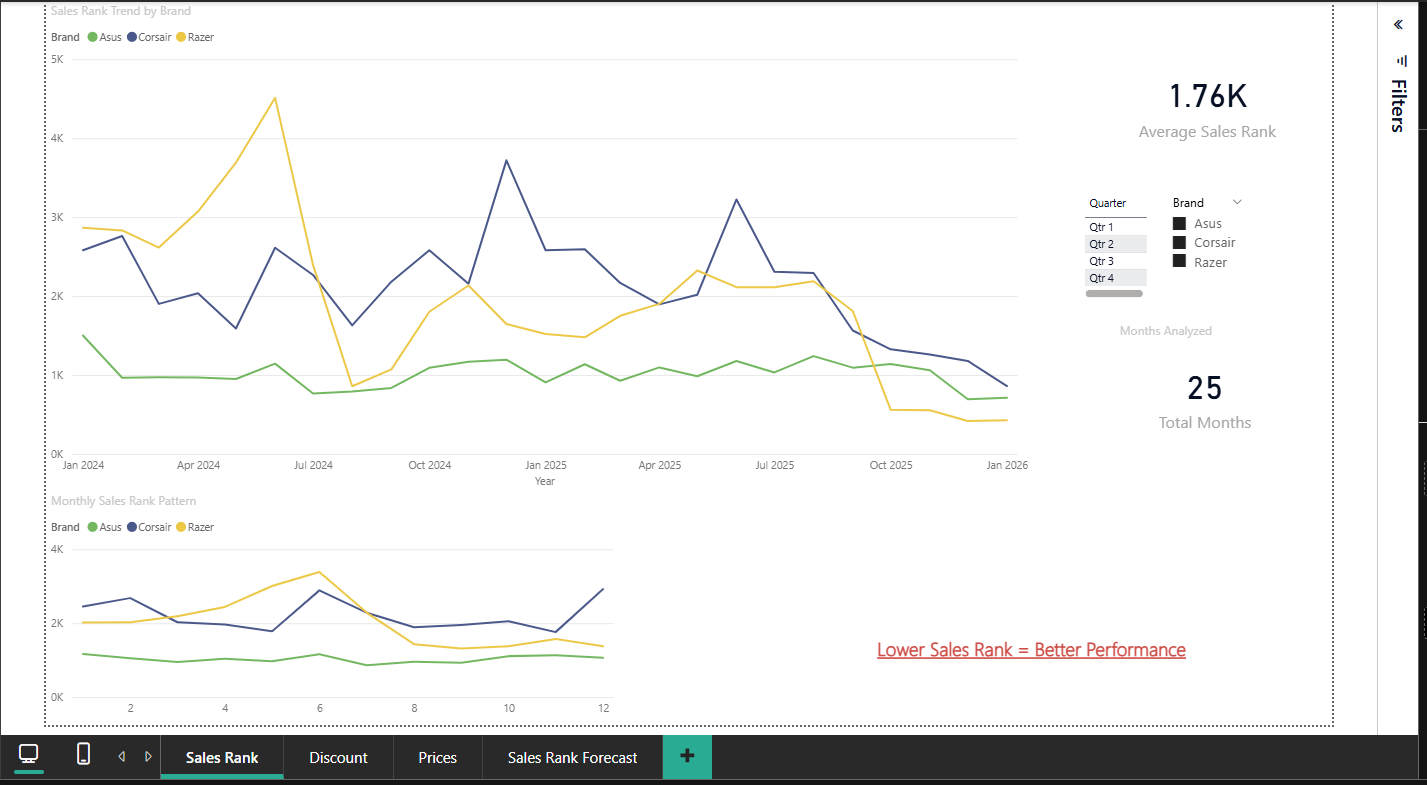

The page's visual inventory and layout, read from the dashboard file:
{"tool":"powerbi","page":{"name":"Sales Rank","canvas":[1280,720],"ordinal":0},"visuals":[{"type":"card","title":"Months Analyzed","fields":{"Values":["All_Keyboards.Total Months"]},"box":[1064.1,318.4,179.9,130.7],"z":0},{"type":"lineChart","title":"Sales Rank Trend by Brand","fields":{"Category":["All_Keyboards.Year-Month.Variation.Date Hierarchy.Year","All_Keyboards.Year-Month.Variation.Date Hierarchy.Month"],"Y":["Avg(All_Keyboards.Sales Rank)"],"Series":["All_Keyboards.Brand"]},"box":[0,0,982.5,488],"z":2000},{"type":"card","fields":{"Values":["All_Keyboards.Average Sales Rank"]},"box":[1069.3,42.7,172.2,119.1],"z":3000},{"type":"lineChart","title":"Monthly Sales Rank Pattern","fields":{"Y":["Avg(All_Keyboards.Sales Rank)"],"Series":["All_Keyboards.Brand"],"Category":["All_Keyboards.Month"]},"box":[0,488,569.6,231.7],"z":4000},{"type":"textbox","box":[822,625.2,332.7,47.9],"z":5000},{"type":"slicer","fields":{"Values":["All_Keyboards.Brand"]},"box":[1108.4,186.6,94.5,113.2],"z":5001},{"type":"tableEx","fields":{"Values":["All_Keyboards.Time.Variation.Date Hierarchy.Quarter"]},"box":[1027.5,186.6,73.4,113.2],"z":5002}]}

Visuals, with their boxes on the page's 1280x720 design canvas (x1, y1, x2, y2). These are canvas units, not pixel positions in the 1427x785 screenshot, which may show the page scaled, cropped or inside an application window:
"Months Analyzed" card: bbox=(1064, 318, 1244, 449)
"Sales Rank Trend by Brand" lineChart: bbox=(0, 0, 982, 488)
card - All_Keyboards.Average Sales Rank: bbox=(1069, 43, 1242, 162)
"Monthly Sales Rank Pattern" lineChart: bbox=(0, 488, 570, 720)
textbox: bbox=(822, 625, 1155, 673)
slicer - All_Keyboards.Brand: bbox=(1108, 187, 1203, 300)
tableEx - All_Keyboards.Time.Variation.Date Hierarchy.Quarter: bbox=(1028, 187, 1101, 300)
